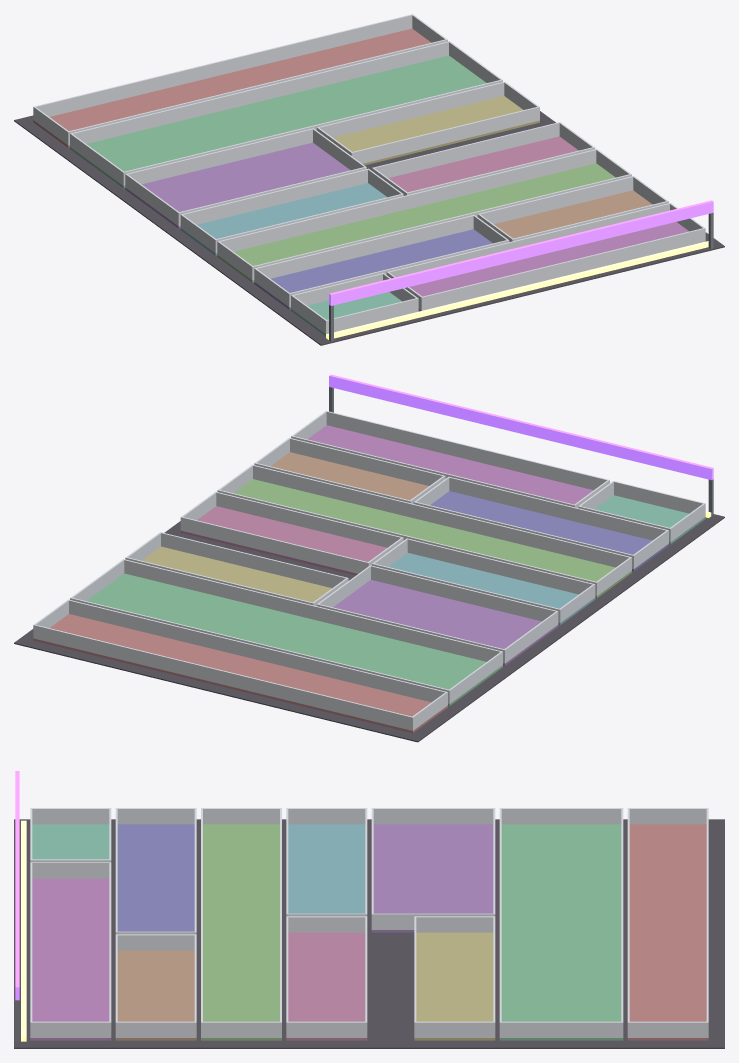
Rendered from hall-rail-signals.glb.
The picture shows the model from 3 angles, top to bottom: view 1: azimuth 30°, elevation 25°; view 2: azimuth 150°, elevation 25°; view 3: azimuth 270°, elevation 25°; orthographic projection. The views are drawn at different scales.
Parts seen in each view (by area): view 1: Rail Signal Technicians; view 2: Rail Signal Technicians; view 3: Rail Signal Technicians.
Boxes of the visible parts, box(x1,y1,x2,y2) form: Rail Signal Technicians: box(14, 14, 724, 345); Rail Signal Technicians: box(14, 374, 724, 742); Rail Signal Technicians: box(14, 771, 724, 1048).
Bounding box in the file's own units: 38 × 4.3 × 50.
